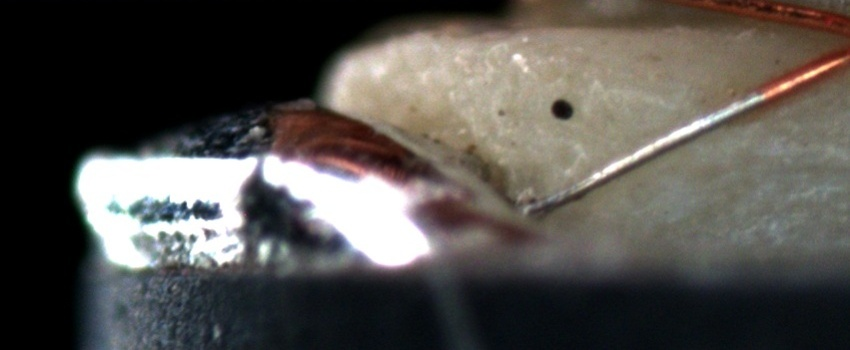DL: (652, 129, 849, 193)
TS: (522, 90, 766, 219)
